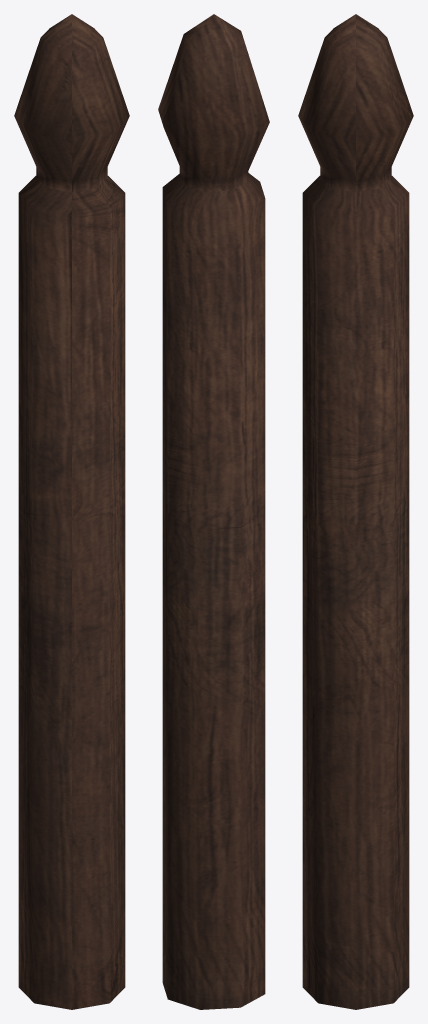
File: Bibliothek_RailingPillar.fbx
The picture shows the model from 3 angles, left to right: view 1: azimuth 90°, elevation 25°; view 2: azimuth 210°, elevation 25°; view 3: azimuth 270°, elevation 25°; orthographic projection.
Parts seen in each view (by area): view 1: Bibliothek_RailingPillar; view 2: Bibliothek_RailingPillar; view 3: Bibliothek_RailingPillar.
Part boxes in pixels (x1,y1,x2,y2): Bibliothek_RailingPillar: (14,14,129,1009); Bibliothek_RailingPillar: (158,14,269,1009); Bibliothek_RailingPillar: (298,14,413,1009).
Bounding box in the file's own units: 9.87 × 91.66 × 9.87.
